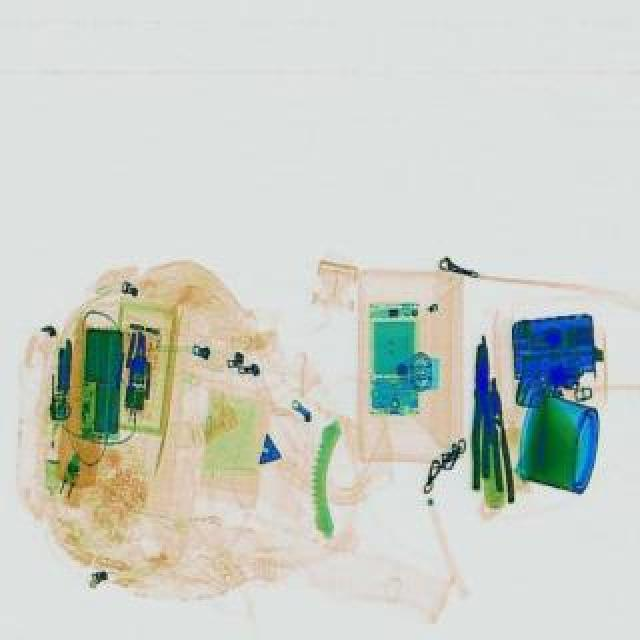wrench: (472, 342, 492, 492)
